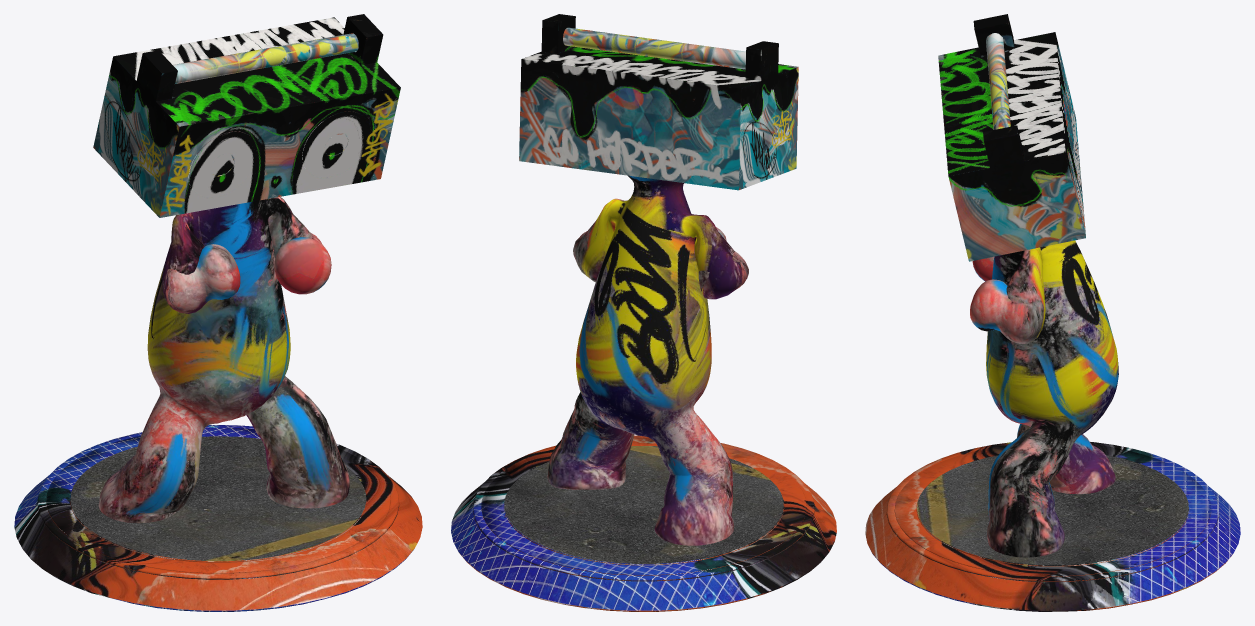
The picture shows the model from 3 angles, left to right: view 1: azimuth 30°, elevation 25°; view 2: azimuth 150°, elevation 25°; view 3: azimuth 270°, elevation 25°; orthographic projection. The views are drawn at different scales.
Parts seen in each view (by area): view 1: BBody; view 2: BBody; view 3: BBody.
Part boxes in pixels (x1=…): BBody: x1=14, y1=14, x2=422, y2=611; BBody: x1=451, y1=14, x2=836, y2=611; BBody: x1=865, y1=14, x2=1240, y2=611.
Bounding box in the file's own units: 1.45 × 2.02 × 1.45.
Materials: 4 (4 with a texture image).
